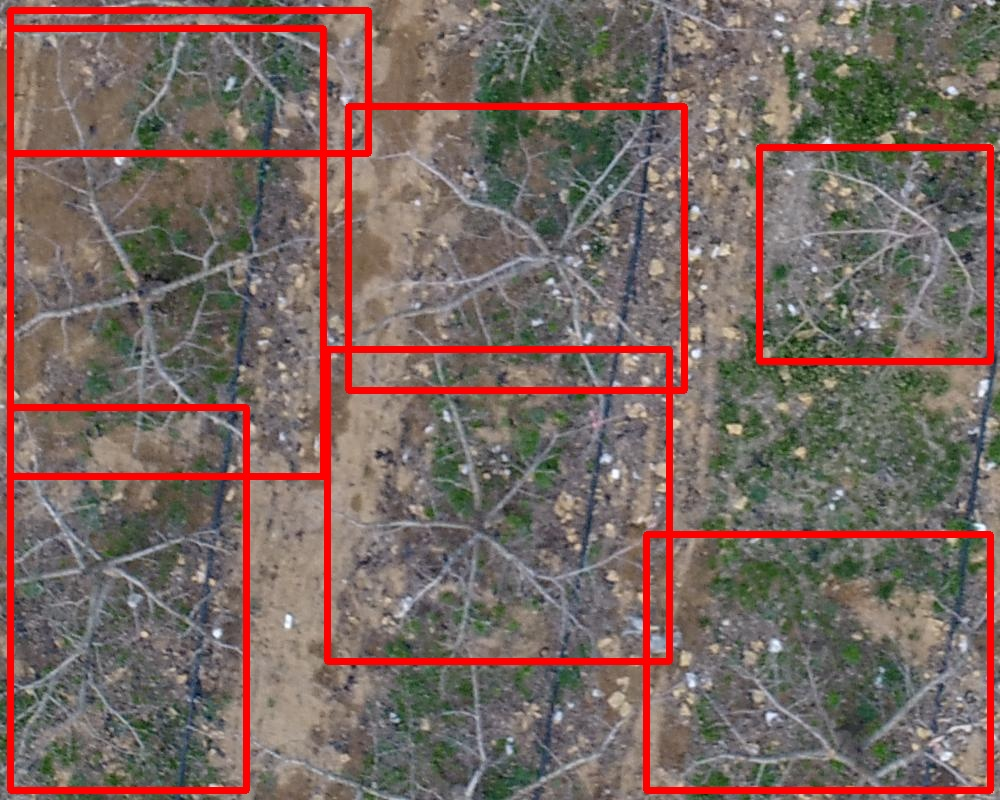apple: (10, 28, 323, 476), (327, 349, 669, 661), (348, 106, 684, 390), (10, 407, 246, 790), (646, 534, 990, 790), (10, 10, 368, 153), (759, 147, 990, 361)
